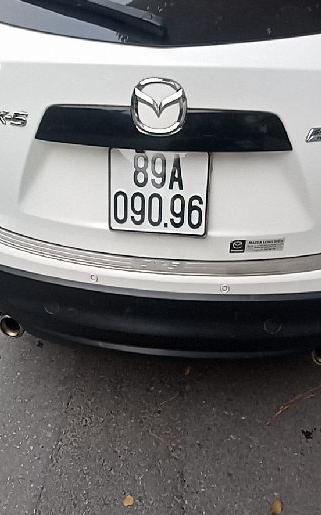Plate-iWeP: (107, 143, 214, 242)
